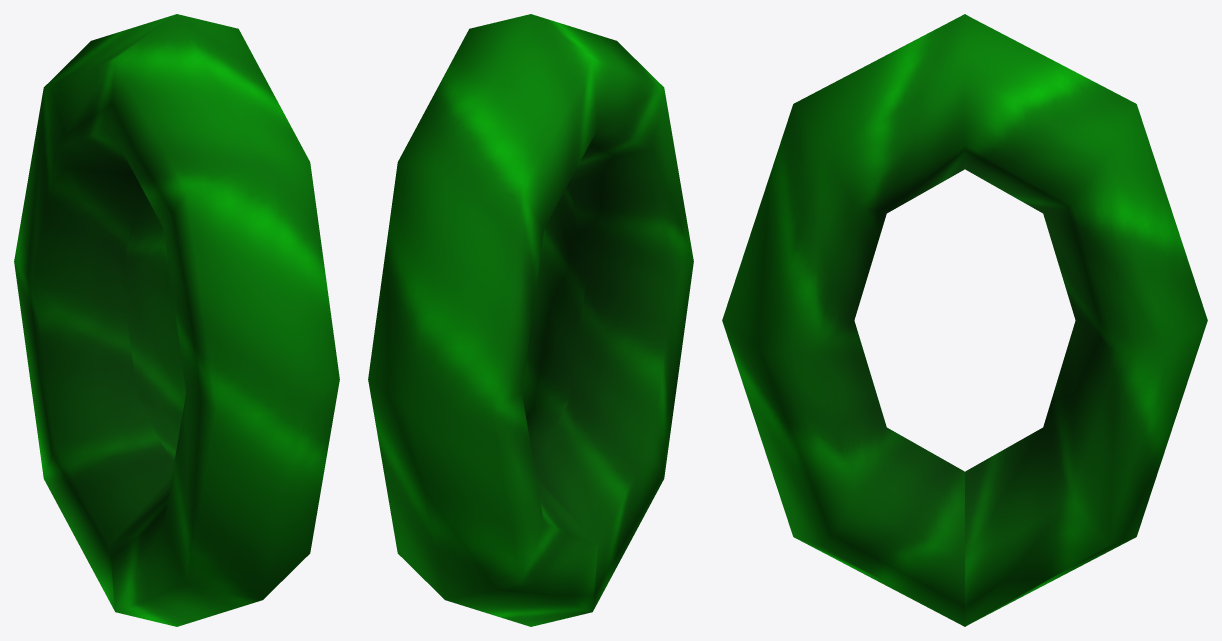
Rendered from String_Loop_C.fbx.
3 renders of one model, left to right at view 1: azimuth 30°, elevation 25°; view 2: azimuth 150°, elevation 25°; view 3: azimuth 270°, elevation 25°, orthographic.
Parts seen in each view (by area): view 1: String_Loop_C; view 2: String_Loop_C; view 3: String_Loop_C.
Boxes of the visible parts, box(x1,y1,x2,y2) form: String_Loop_C: box(14, 14, 339, 626); String_Loop_C: box(368, 14, 693, 626); String_Loop_C: box(722, 14, 1207, 626).
Size of the model in its own units: 2.56 by 11.15 by 8.01.
Materials: 1 (1 with a texture image).
